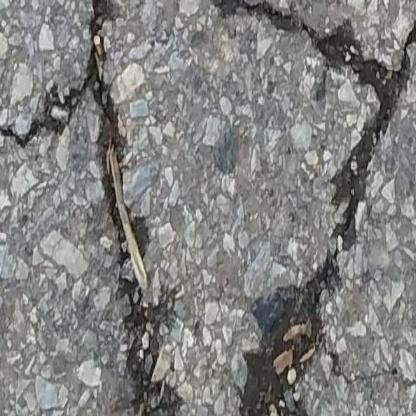Cracks: (195, 0, 416, 416), (0, 0, 181, 416)
